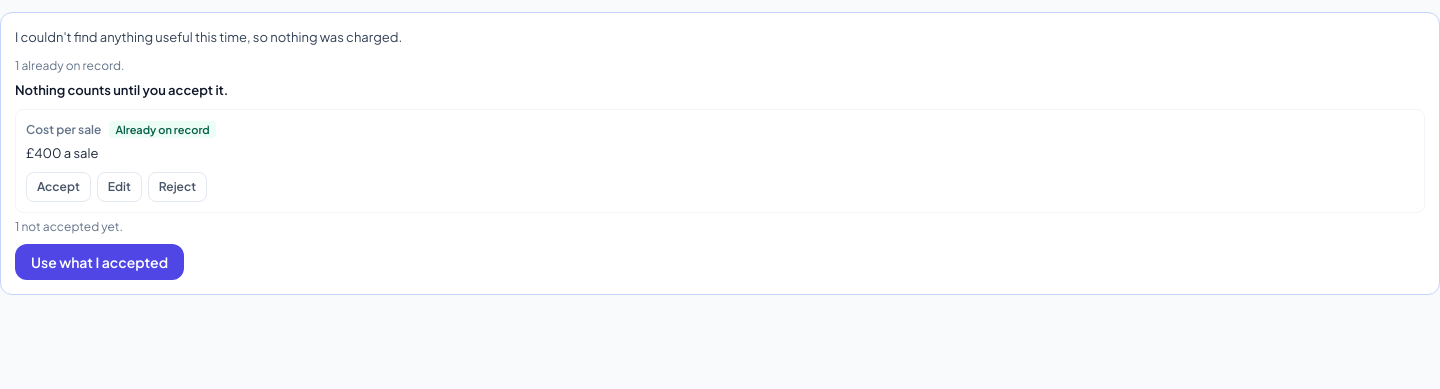
editing a figure in the funding review › Enter saves it onto the case before adopting, and the setup form is told to reload
Step 1. Click the button "Edit" → (119, 187), box [97,172,142,202]
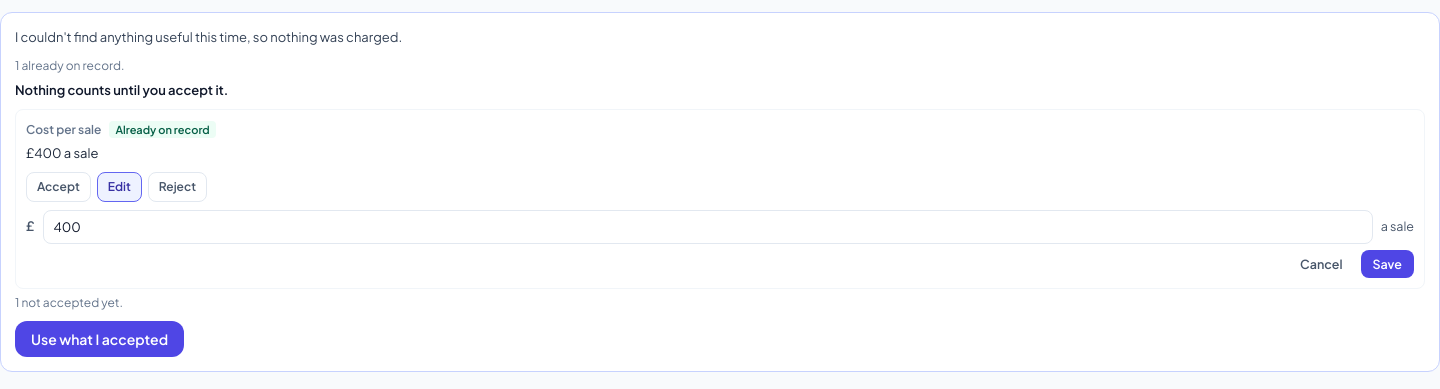
Check: the text "1 not accepted yet." is shown, box [15,295,123,310]
Step 2. Replace the text in the text box named "Your version: Cost per sale" with "300" → (708, 227), box [42,210,1373,244]
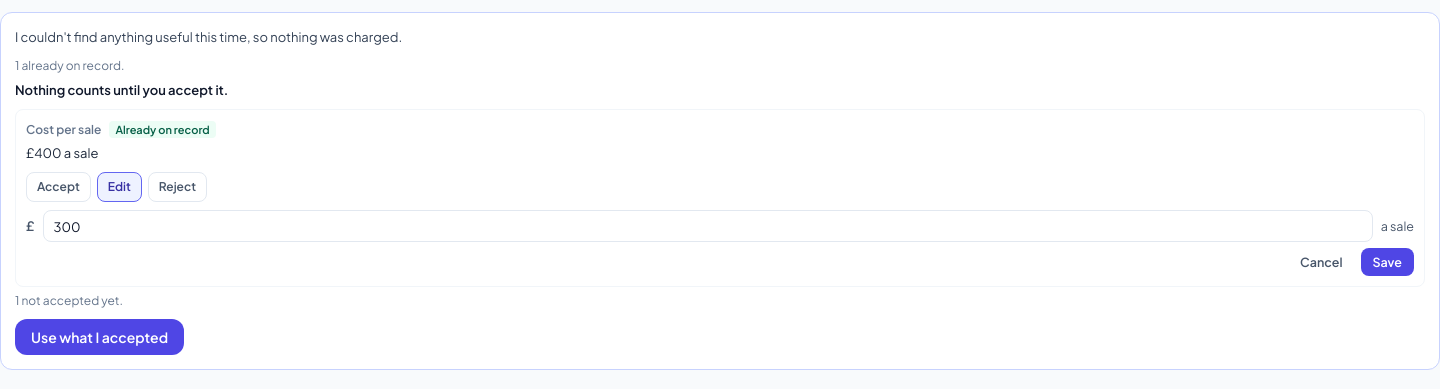
Step 3. Press Enter in the text box named "Your version: Cost per sale", box [42,210,1373,242]
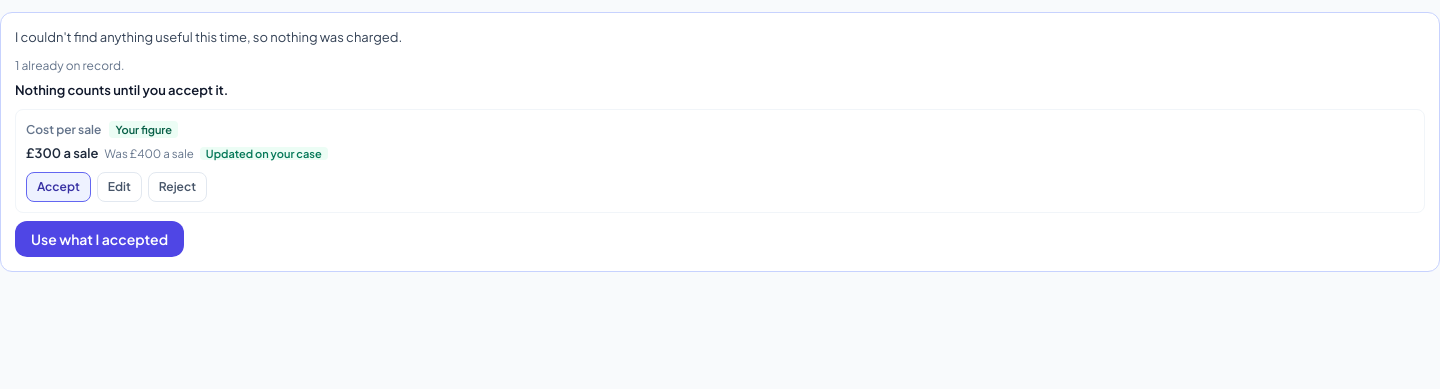
Check: the element that starts with "£300 a sale" shows "Was", box [104,146,130,161]
